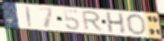5: (63, 8, 81, 31)
7: (38, 7, 55, 29)
H: (106, 11, 127, 35)
I: (25, 6, 34, 28)
O: (127, 13, 148, 36)
R: (82, 11, 105, 33)
